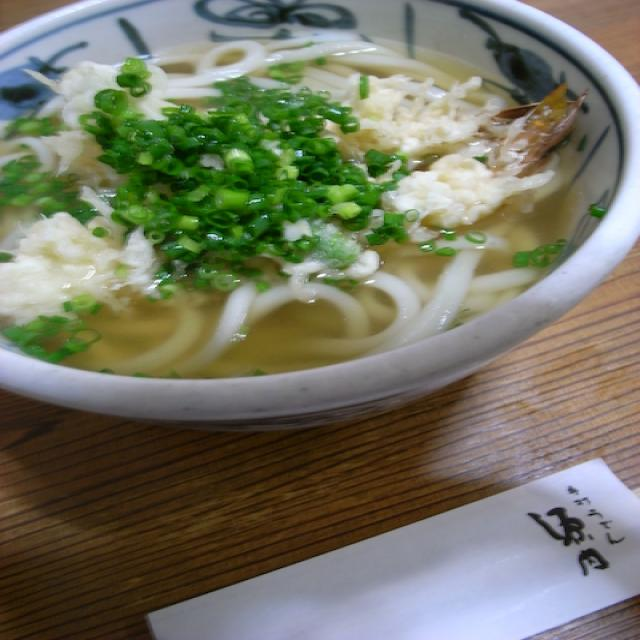面条主食: (0, 17, 547, 396)
